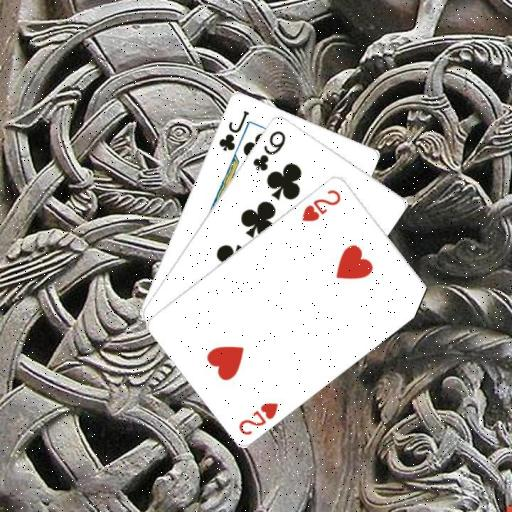2H: (236, 399, 281, 437), (299, 186, 343, 224)
9C: (249, 127, 287, 173)
JC: (215, 107, 251, 153)
